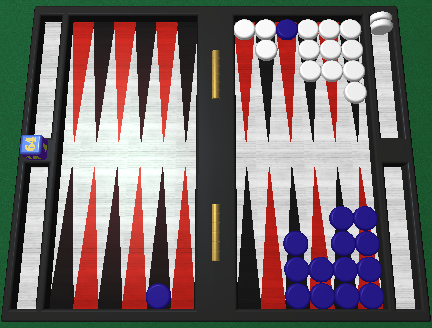point: (74, 166, 99, 307), (334, 167, 357, 309), (308, 166, 331, 308), (285, 166, 308, 308), (261, 167, 284, 309), (237, 167, 260, 309), (173, 165, 196, 307), (147, 166, 170, 308), (123, 166, 146, 308), (99, 167, 122, 309), (52, 167, 74, 308), (357, 165, 378, 307), (71, 22, 93, 142), (113, 21, 135, 141), (155, 21, 177, 141), (134, 20, 156, 140), (93, 22, 113, 141), (178, 21, 198, 140), (234, 21, 254, 140), (255, 21, 275, 140), (276, 21, 296, 140), (297, 20, 317, 139), (318, 20, 338, 139), (340, 21, 360, 140)
